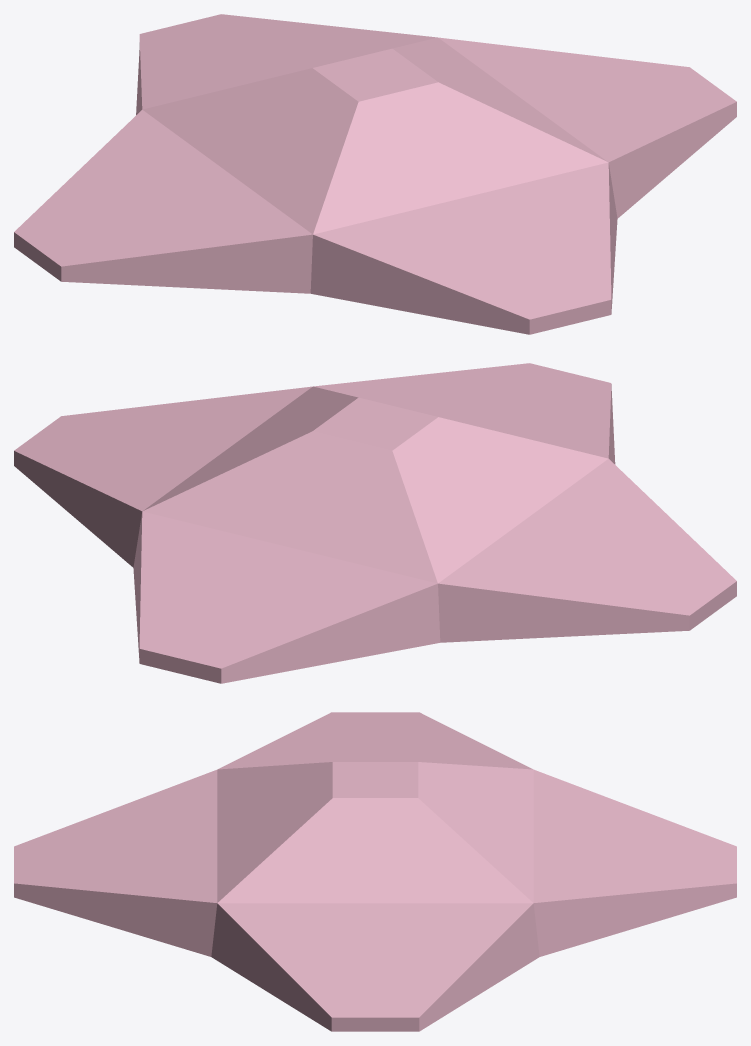
File: coolshape.fbx
3 views of the same model, one above another, from view 1: azimuth 30°, elevation 25°; view 2: azimuth 150°, elevation 25°; view 3: azimuth 270°, elevation 25° (orthographic). The views are drawn at different scales.
Parts seen in each view (by area): view 1: Cube; view 2: Cube; view 3: Cube.
Boxes of the visible parts, <box> form: Cube: <box>14,14,736,334</box>; Cube: <box>14,363,736,683</box>; Cube: <box>14,712,736,1031</box>.
Bounding box in the file's own units: 168 × 27.58 × 168.
